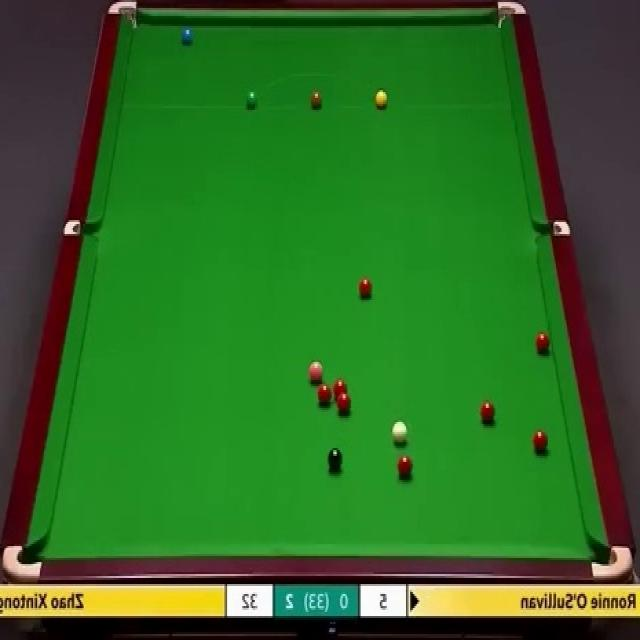black-ball: (326, 448, 343, 473)
blue-ball: (179, 22, 195, 47)
brown-ball: (309, 91, 323, 111)
green-ball: (244, 90, 258, 112)
pink-ball: (308, 361, 326, 385)
red-ball: (532, 428, 548, 456), (480, 401, 496, 428), (397, 454, 413, 479), (357, 276, 373, 300), (316, 383, 333, 405), (336, 393, 352, 416), (536, 331, 551, 355), (332, 379, 349, 400)
white-ball: (391, 419, 409, 443)
yellow-ball: (374, 90, 388, 110)
